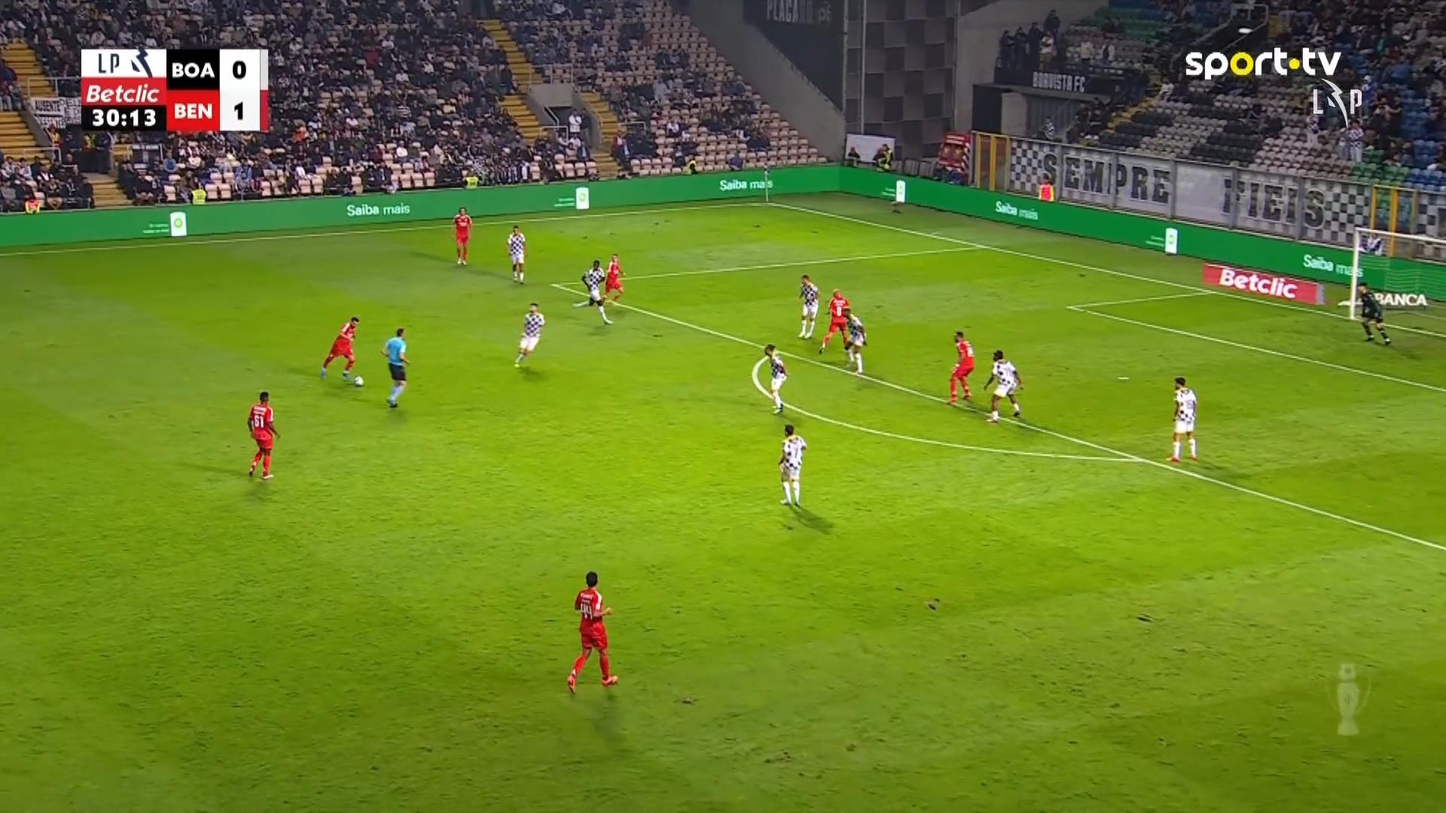ball: (352, 375, 363, 386)
goalkeeper: (1356, 281, 1392, 345)
player: (566, 571, 618, 693), (981, 349, 1023, 422), (246, 390, 279, 479), (573, 258, 613, 324), (1167, 376, 1198, 461), (776, 423, 807, 507), (319, 315, 359, 380), (817, 288, 851, 355), (513, 301, 545, 368), (947, 330, 975, 404), (762, 343, 787, 415), (842, 310, 866, 373), (797, 274, 819, 339), (451, 206, 472, 266), (506, 224, 526, 284), (604, 253, 625, 304)
referee: (380, 327, 410, 408)
